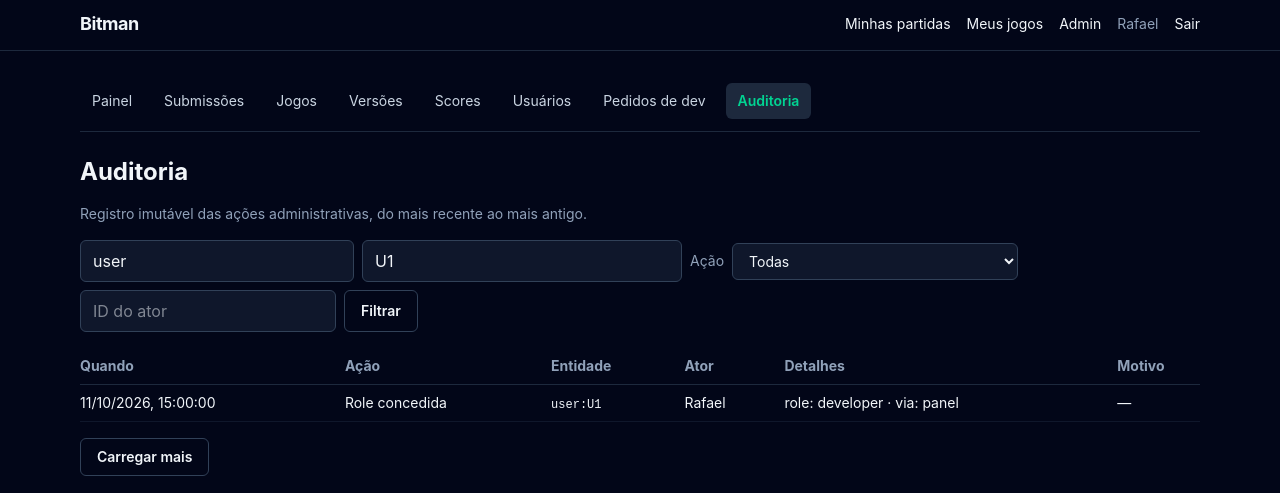
Test: AuditPage › consulta o histórico da entidade indicada na URL e carrega mais pelo cursor
Expected: the cell "Role concedida" is shown, left=345, top=384, right=551, bottom=422
Expected: the cell "Rafael" is shown, left=684, top=384, right=784, bottom=422
Click the button "Carregar mais" at (145, 457), box left=80, top=438, right=210, bottom=476
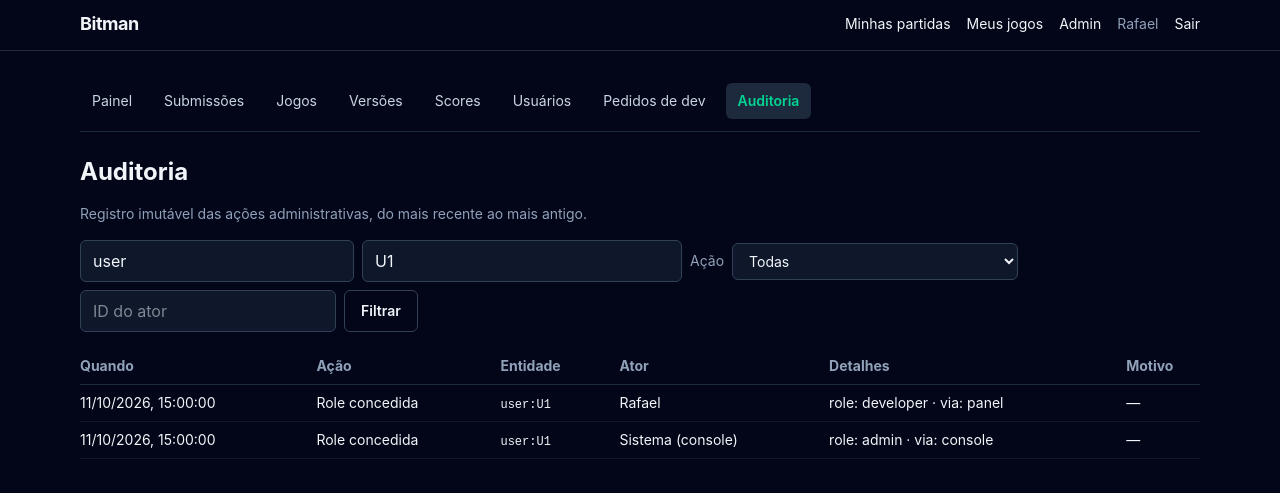
Expected: the text "Sistema (console)" is shown, left=620, top=422, right=829, bottom=458
Expected: the button "Carregar mais" is gone
